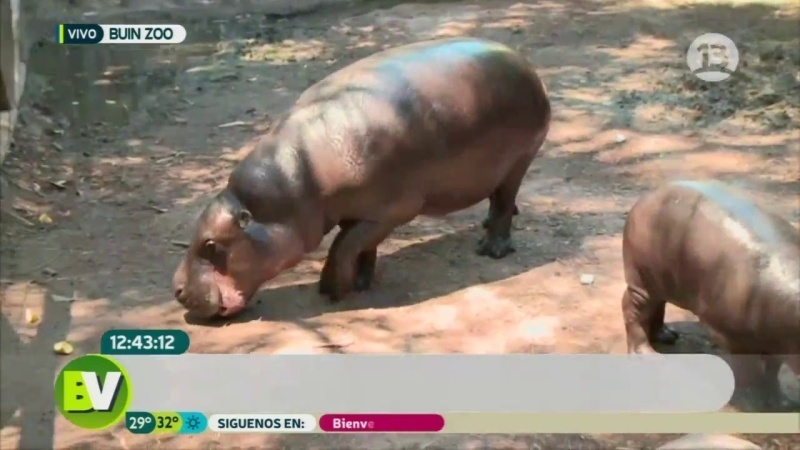hipopotamo: (155, 34, 563, 337), (593, 166, 800, 358)
